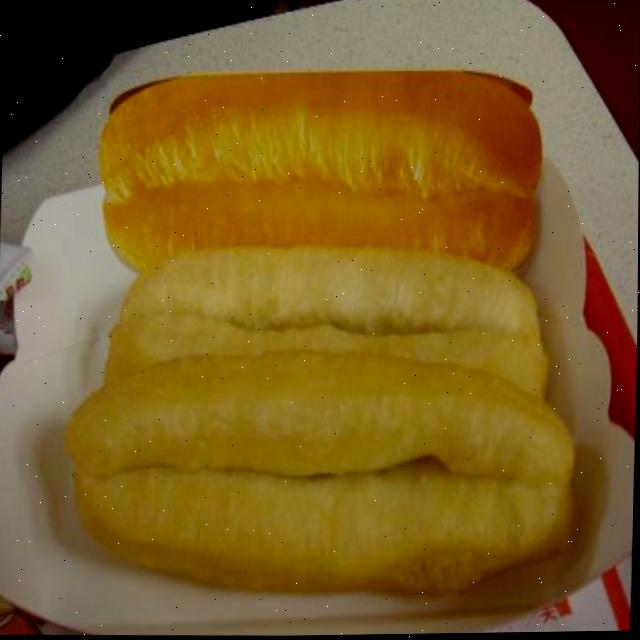炸货点心: (48, 34, 611, 611)
